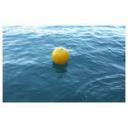yellow: (52, 48, 69, 65)
